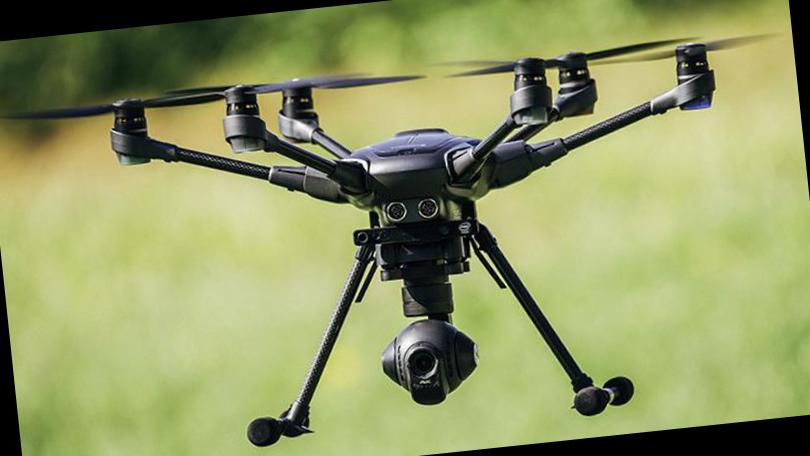drone: (23, 0, 785, 292)
